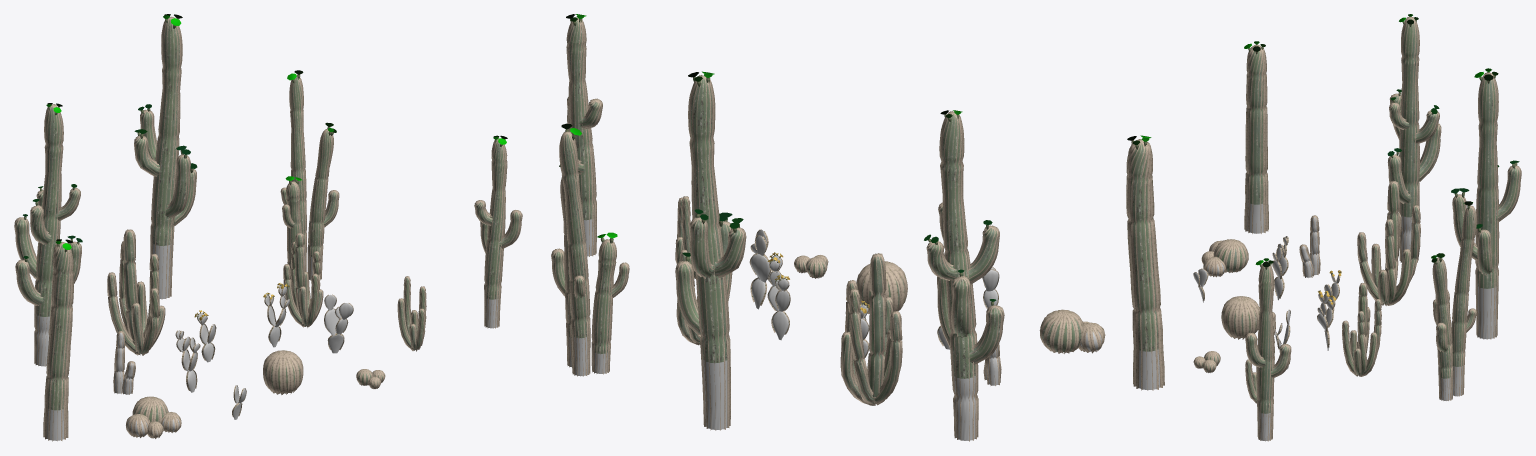
The model's file is Cacti.fbx.
3 views of the same model, side by side, from view 1: azimuth 30°, elevation 25°; view 2: azimuth 150°, elevation 25°; view 3: azimuth 270°, elevation 25° (orthographic). The views are drawn at different scales.
Visible parts, largest first — view 1: spines 01_6, cactus_0, cactus blend_1, prickly pear_4, spines 02_8, saguaro flower_7, prickly pear blend_3; view 2: spines 01_6, cactus_0, cactus blend_1, prickly pear_4, saguaro flower_7, prickly pear blend_3, spines 02_8; view 3: spines 01_6, cactus_0, cactus blend_1, prickly pear_4, spines 02_8, saguaro flower_7.
Part boxes in pixels (x1,y1,x2,y2): spines 01_6: [14, 16, 522, 441]; cactus_0: [16, 19, 520, 422]; cactus blend_1: [35, 243, 498, 440]; prickly pear_4: [176, 286, 353, 403]; spines 02_8: [175, 285, 353, 417]; saguaro flower_7: [23, 14, 507, 258]; prickly pear blend_3: [187, 326, 343, 419]; spines 01_6: [551, 17, 1164, 441]; cactus_0: [553, 20, 1158, 403]; cactus blend_1: [569, 218, 1159, 440]; prickly pear_4: [750, 230, 998, 339]; saguaro flower_7: [559, 14, 1151, 301]; prickly pear blend_3: [752, 278, 997, 356]; spines 02_8: [749, 229, 999, 358]; spines 01_6: [1193, 16, 1521, 441]; cactus_0: [1194, 19, 1519, 413]; cactus blend_1: [1204, 203, 1496, 441]; prickly pear_4: [1193, 236, 1338, 347]; spines 02_8: [1193, 236, 1340, 363]; saguaro flower_7: [1244, 14, 1519, 267].
Size of the model in its own units: 703 by 398 by 434.
